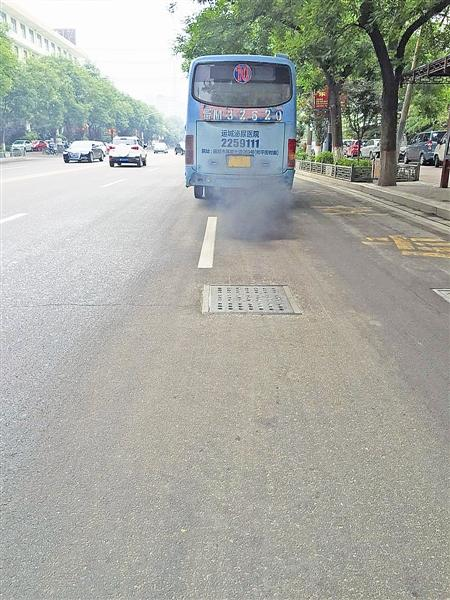smoke: (209, 178, 308, 245)
